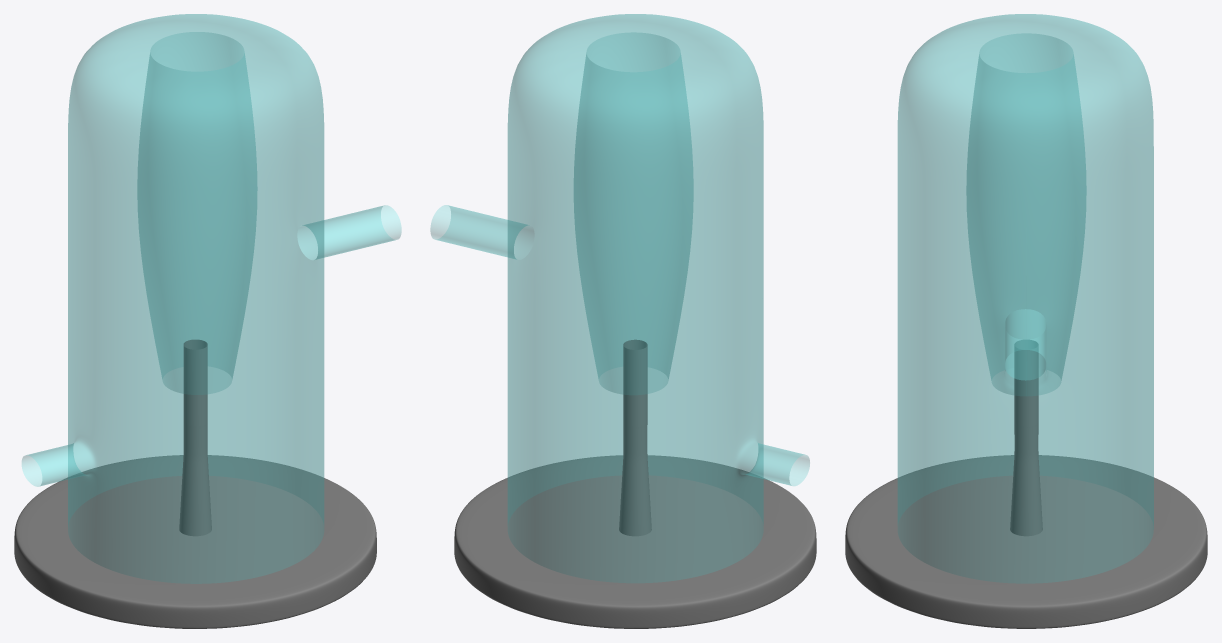
The model's file is spray chamber.fbx.
3 views of the same model, side by side, from view 1: azimuth 30°, elevation 25°; view 2: azimuth 150°, elevation 25°; view 3: azimuth 270°, elevation 25° (orthographic).
Visible parts, largest first — view 1: Spray Chamber; view 2: Spray Chamber; view 3: Spray Chamber.
Boxes of the visible parts, x1=… form: Spray Chamber: x1=14, y1=14, x2=401, y2=628; Spray Chamber: x1=430, y1=14, x2=816, y2=628; Spray Chamber: x1=845, y1=14, x2=1207, y2=628.
Size of the model in its own units: 124 by 166 by 108.
